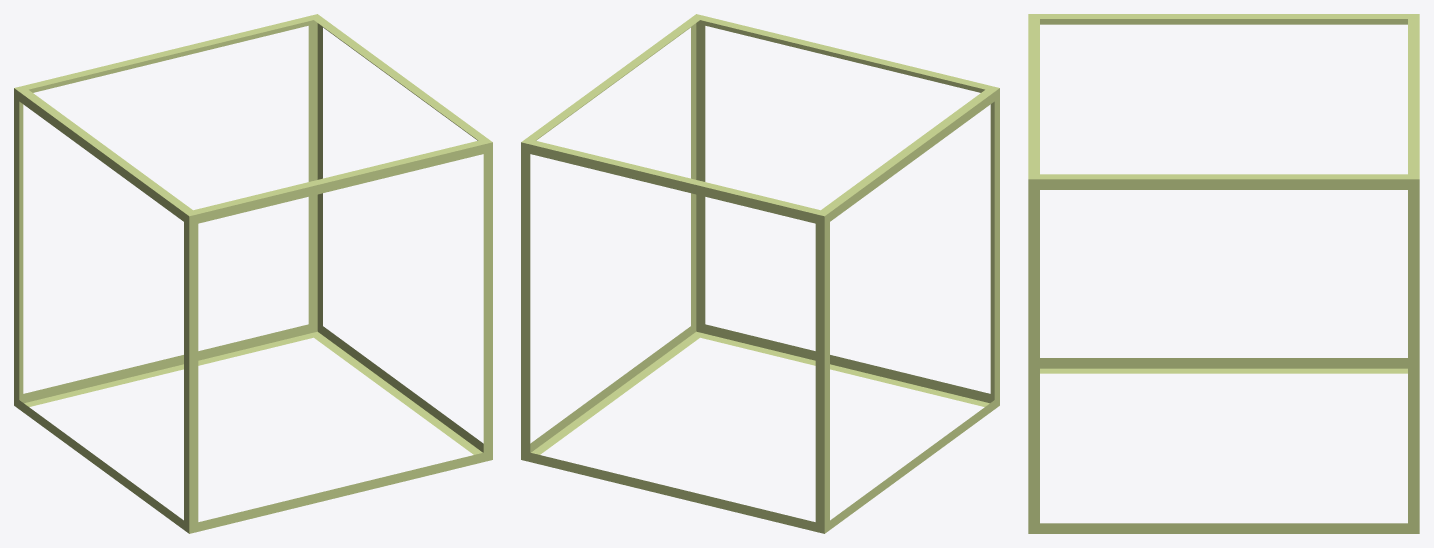
Rendered from fure-mu.obj.
3 views of the same model, side by side, from view 1: azimuth 30°, elevation 25°; view 2: azimuth 150°, elevation 25°; view 3: azimuth 270°, elevation 25° (orthographic). The views are drawn at different scales.
Parts seen in each view (by area): view 1: Box001; view 2: Box001; view 3: Box001.
Boxes of the visible parts, x1,y1,x2,y2 form: Box001: (14,14,492,533); Box001: (521,14,999,533); Box001: (1028,14,1419,533).
Size of the model in its own units: 1000 by 1000 by 1000.
